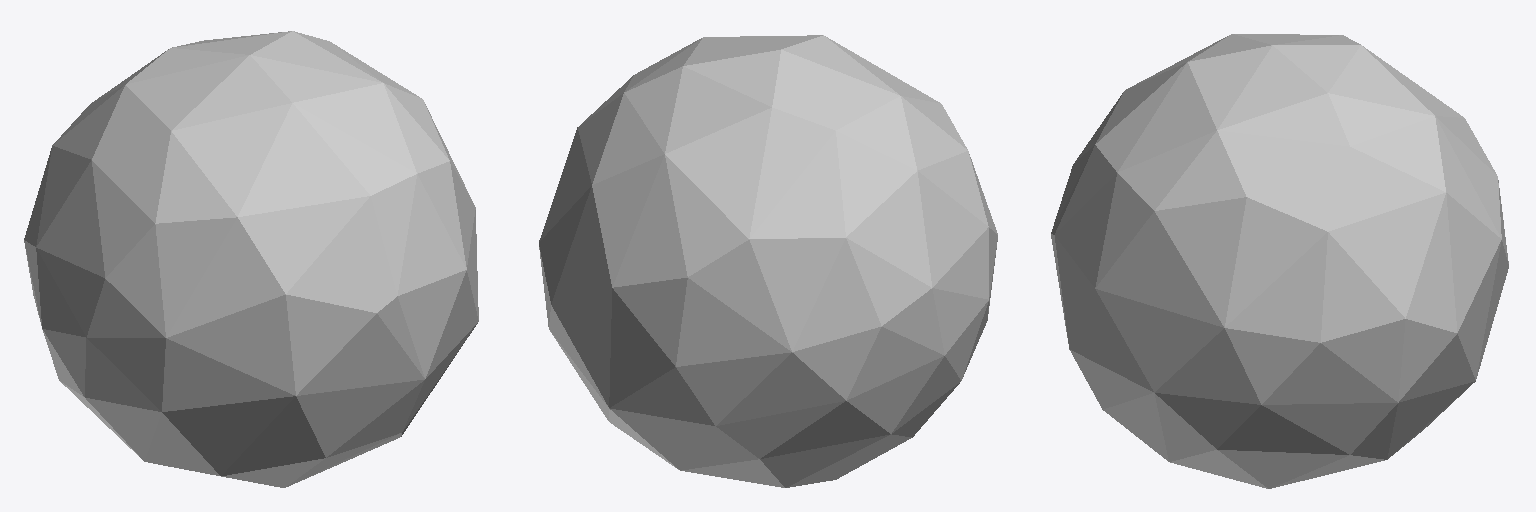
File: basketball_corrected_vhacd.obj
The picture shows the model from 3 angles: view 1: azimuth 30°, elevation 25°; view 2: azimuth 150°, elevation 25°; view 3: azimuth 270°, elevation 25°; orthographic projection.
Parts seen in each view (by area): view 1: convex_0; view 2: convex_0; view 3: convex_0.
Boxes of the visible parts, x1=… form: convex_0: x1=24, y1=31, x2=478, y2=487; convex_0: x1=539, y1=35, x2=997, y2=487; convex_0: x1=1051, y1=34, x2=1508, y2=488.
Size of the model in its own units: 1.97 by 1.99 by 2.